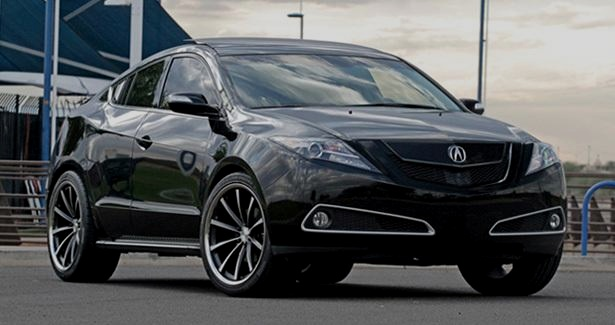car: (38, 29, 589, 311)
